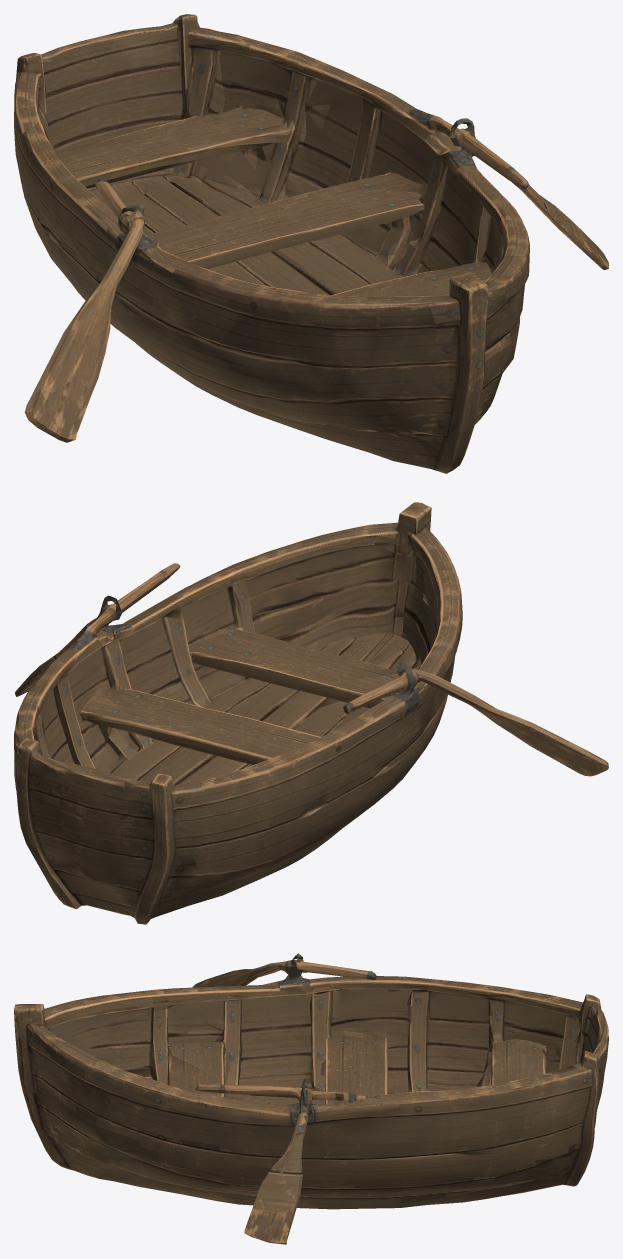
File: boat.glb
3 views of the same model, one above another, from view 1: azimuth 30°, elevation 25°; view 2: azimuth 150°, elevation 25°; view 3: azimuth 270°, elevation 25° (orthographic). The views are drawn at different scales.
Parts seen in each view (by area): view 1: Mesh0; view 2: Mesh0; view 3: Mesh0.
Boxes of the visible parts, box(x1,y1,x2,y2) form: Mesh0: box(14, 14, 608, 473); Mesh0: box(14, 502, 608, 924); Mesh0: box(14, 953, 608, 1244).
Bounding box in the file's own units: 2.44 × 0.7902 × 2.6.
1 material, 1 textured.
